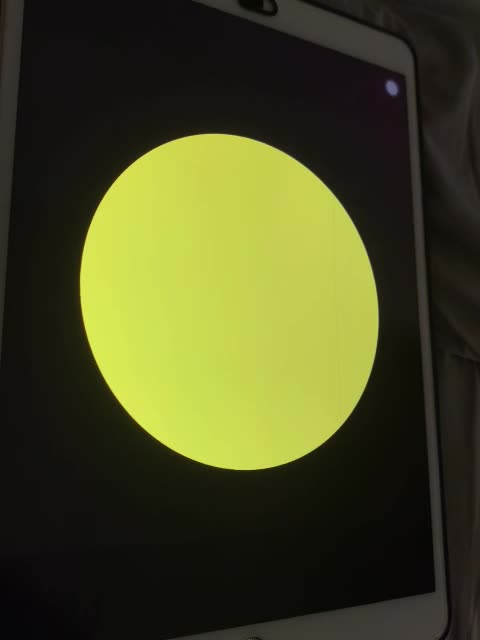left: (64, 111, 382, 502)
